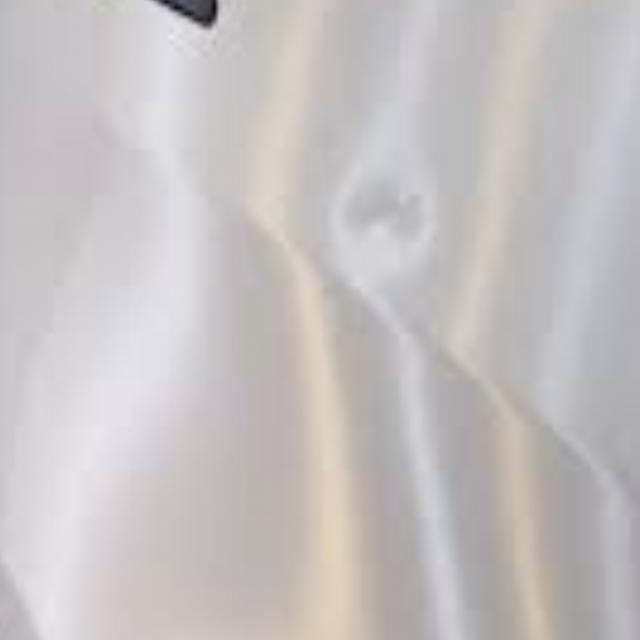dents: (333, 167, 468, 303)
